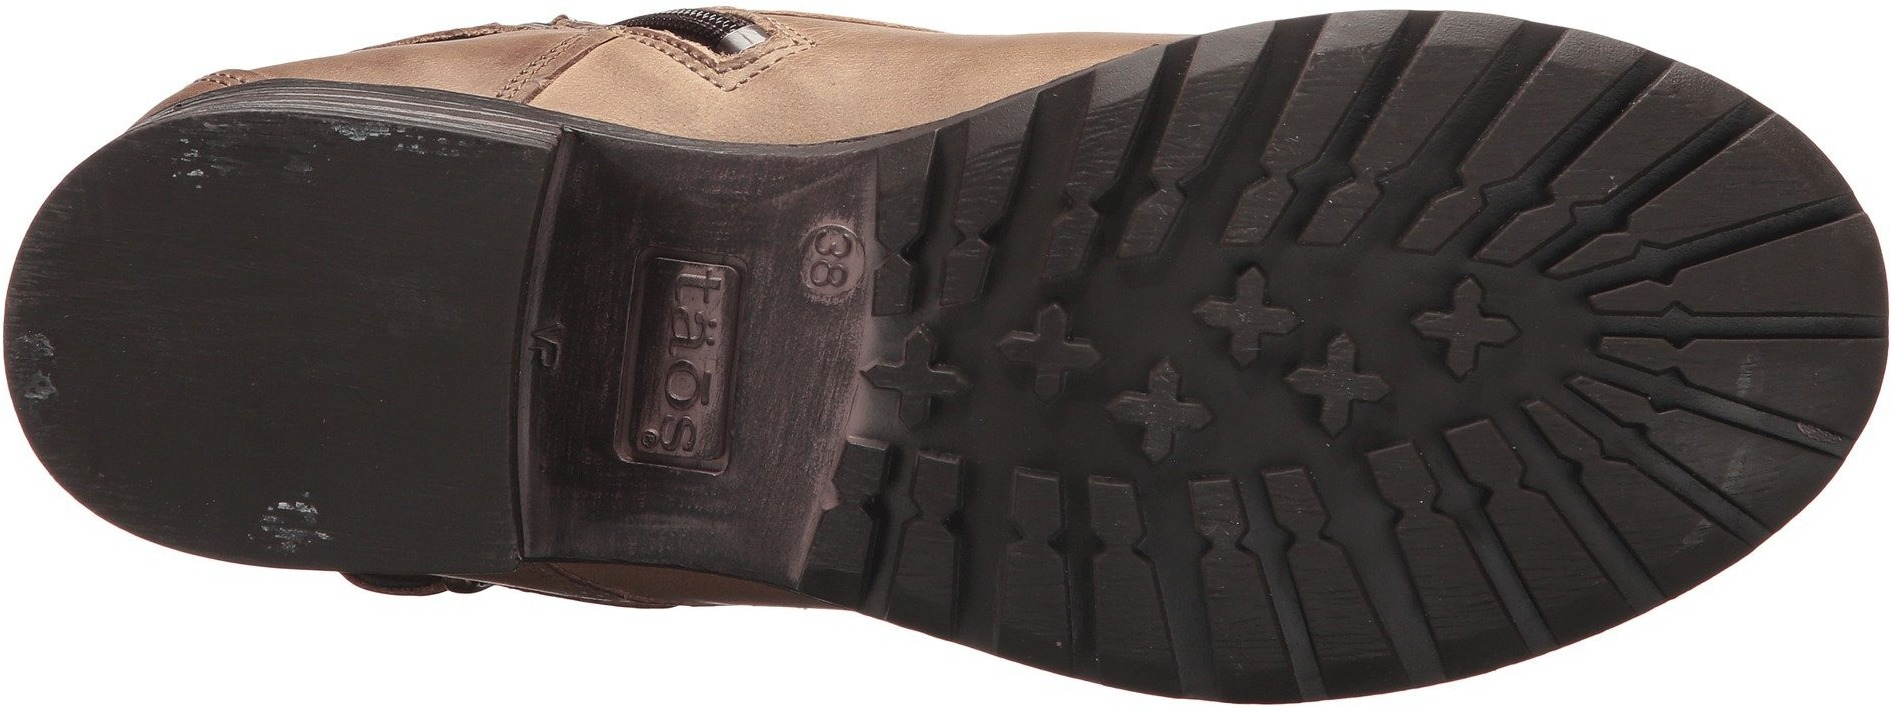bowtie: (1408, 11, 1756, 287), (1446, 379, 1738, 677), (1222, 445, 1491, 713), (1196, 14, 1446, 271)
other: (154, 186, 495, 496)
star: (1008, 293, 1203, 474), (1210, 261, 1397, 436), (1405, 265, 1534, 388), (878, 321, 964, 431)
